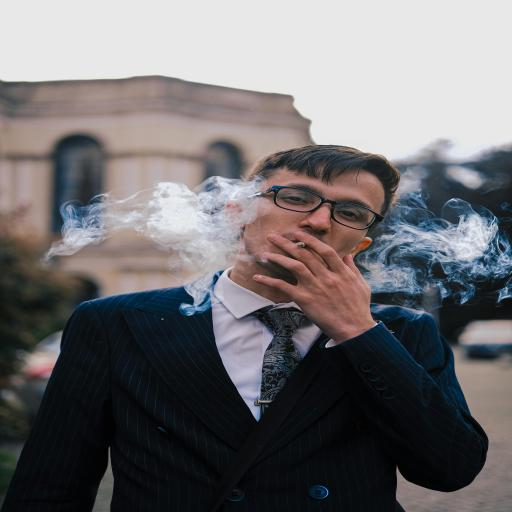terdeteksi merokok: (245, 177, 368, 286)
